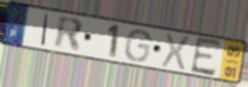1: (105, 23, 121, 60)
E: (189, 36, 224, 79)
G: (123, 28, 153, 63)
I: (39, 12, 50, 48)
R: (52, 14, 85, 54)
X: (160, 31, 192, 72)
